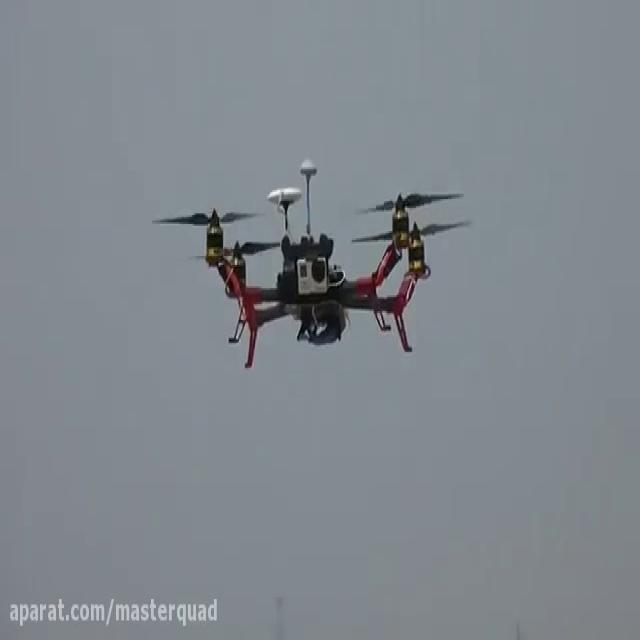drone: (148, 151, 475, 377)
